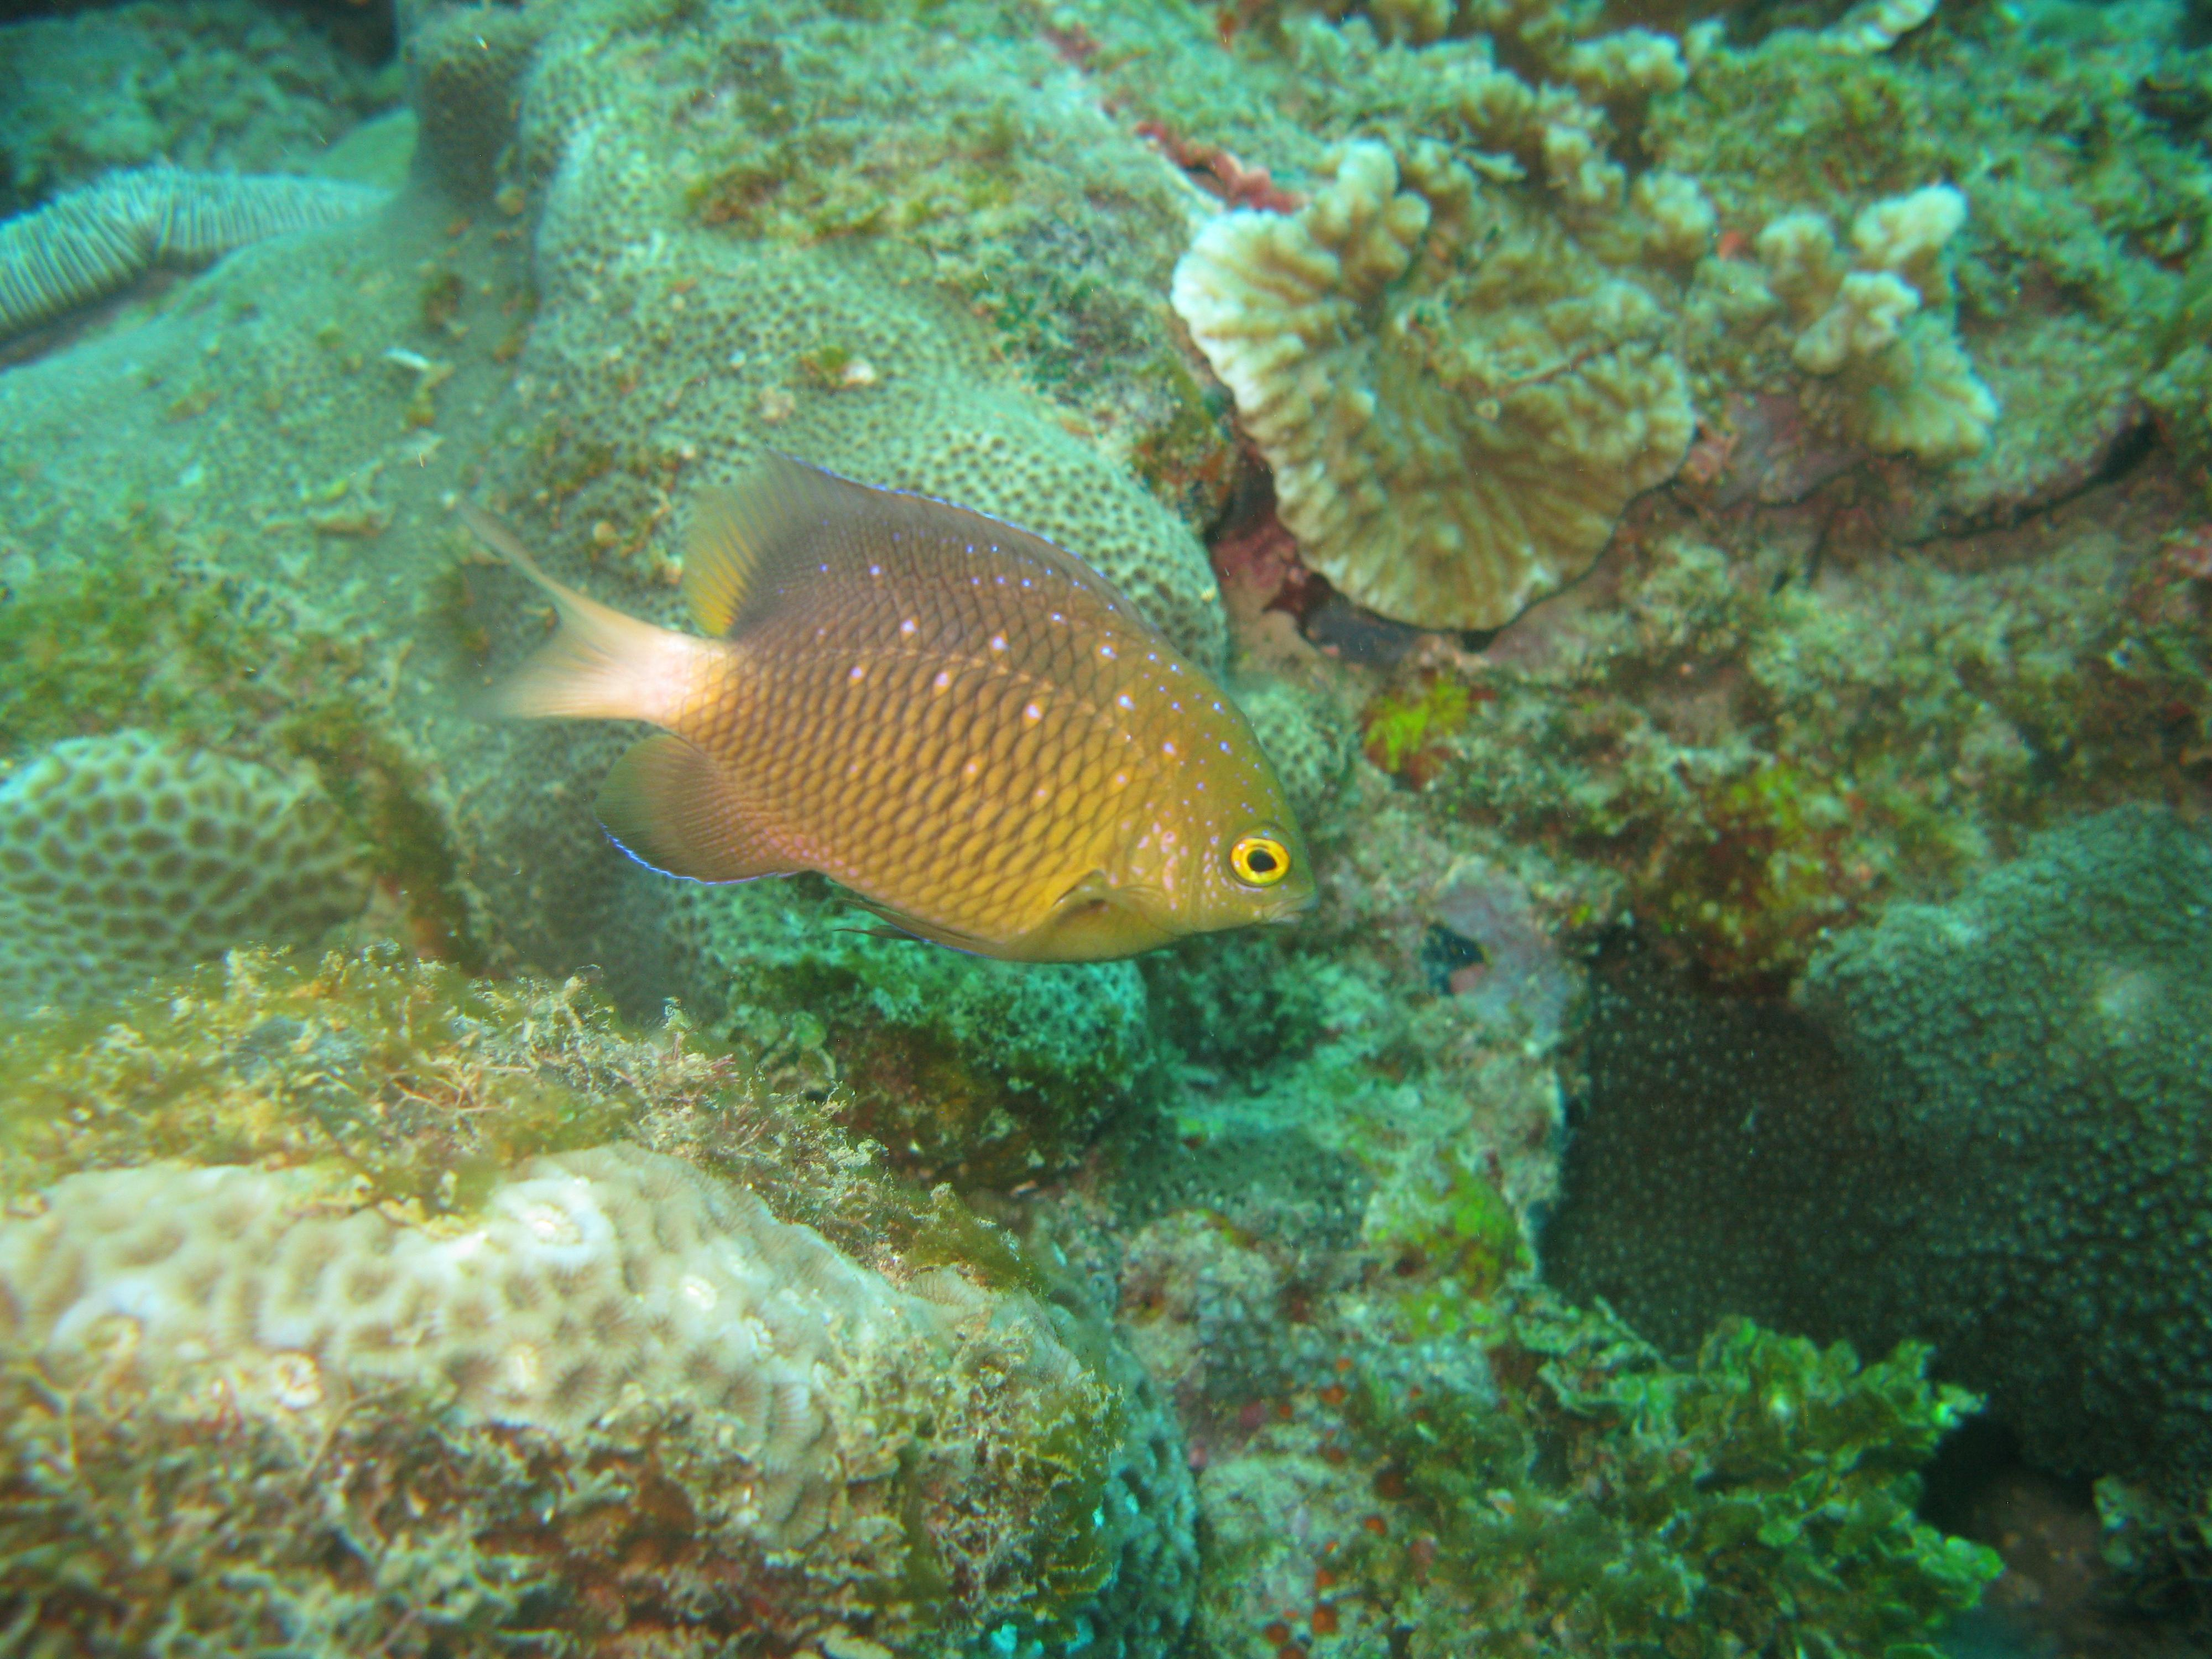Fish: (448, 413, 1367, 993)
